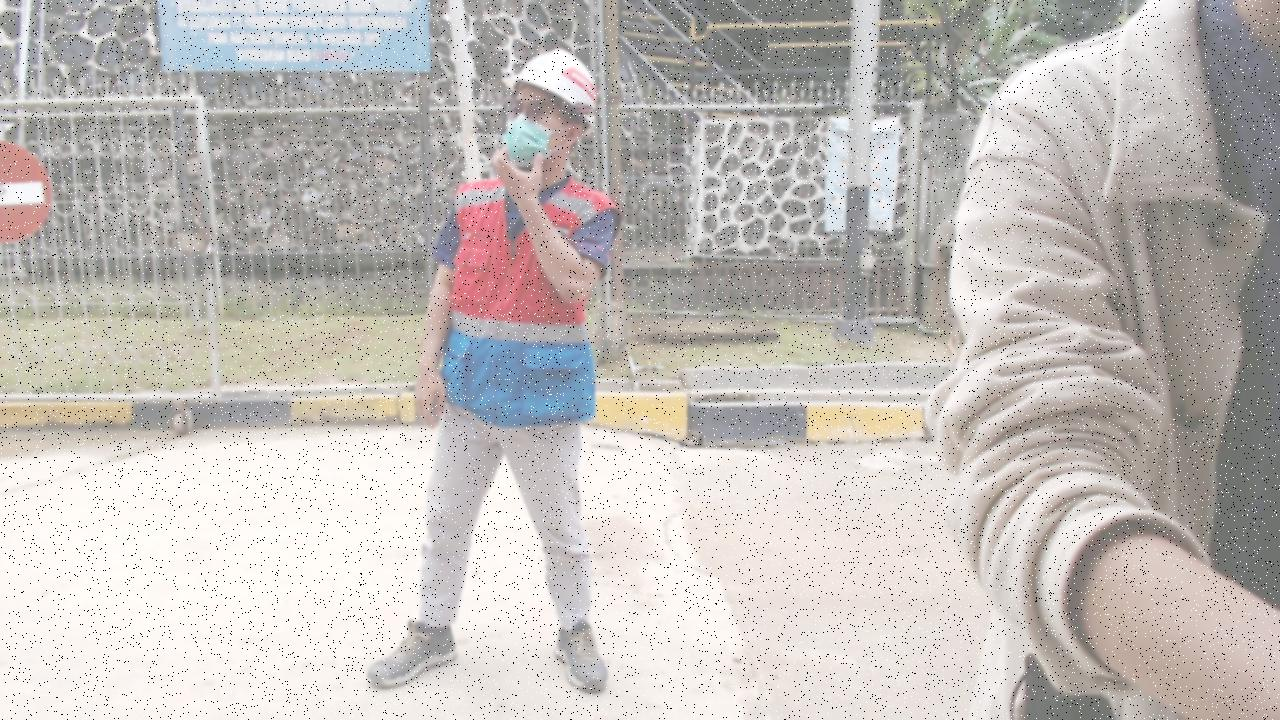helmet: (510, 44, 601, 125)
mask: (498, 117, 568, 166)
safety-shoes: (361, 609, 460, 692), (545, 622, 619, 697)
